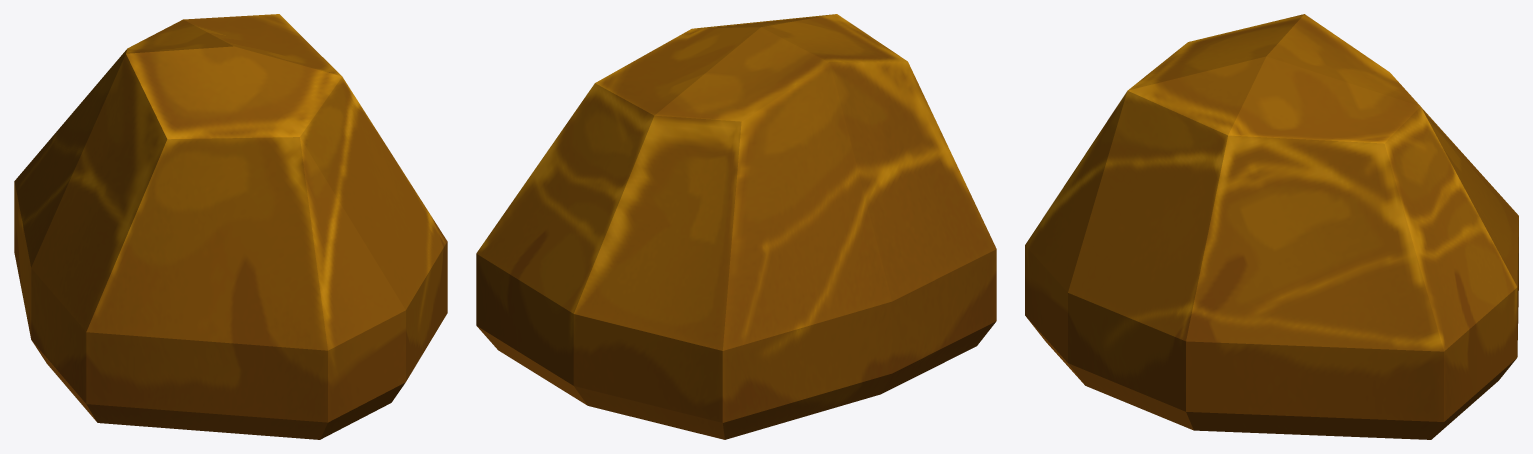
Rendered from Rock2.FBX.
The picture shows the model from 3 angles, left to right: view 1: azimuth 30°, elevation 25°; view 2: azimuth 150°, elevation 25°; view 3: azimuth 270°, elevation 25°; orthographic projection. The views are drawn at different scales.
Parts seen in each view (by area): view 1: Rock2; view 2: Rock2; view 3: Rock2.
Part boxes in pixels (x1=…): Rock2: x1=14, y1=14, x2=447, y2=439; Rock2: x1=476, y1=14, x2=996, y2=439; Rock2: x1=1025, y1=14, x2=1518, y2=439.
Size of the model in its own units: 18.18 by 13.73 by 20.6.
Materials: 1 (1 with a texture image).
